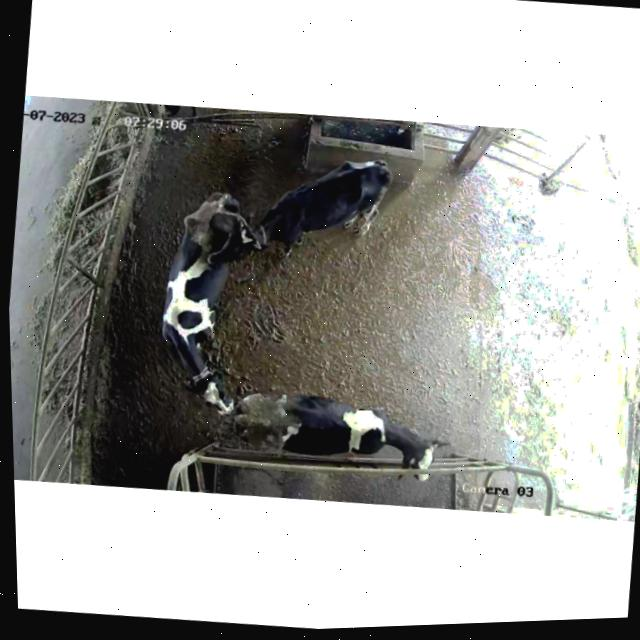propping: (182, 208, 284, 282)
stand: (136, 180, 256, 423), (227, 377, 451, 494)
